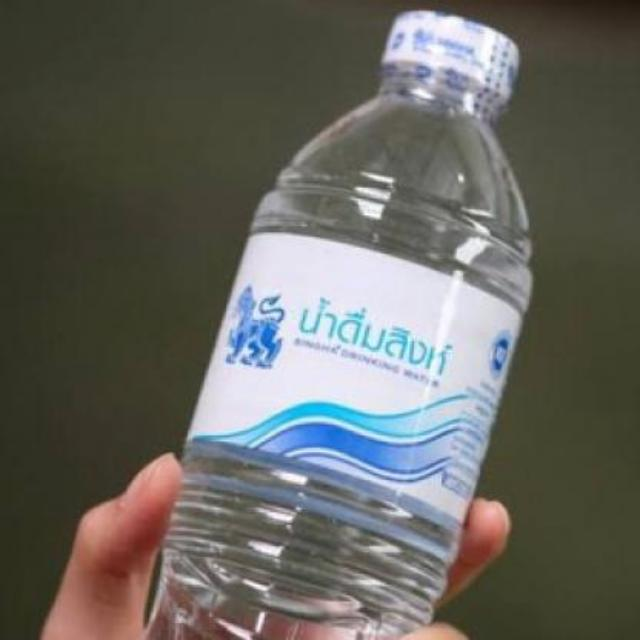bottle: (124, 0, 550, 638)
